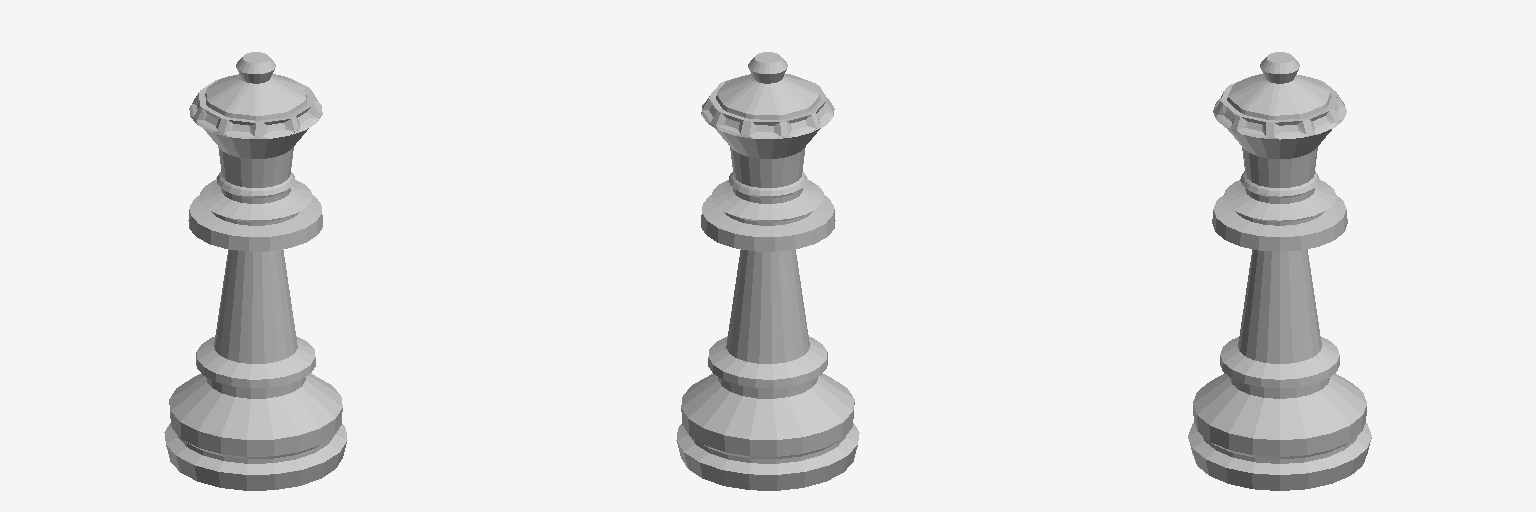
Rendered from whiteQueen.obj.
3 views of the same model, side by side, from view 1: azimuth 30°, elevation 25°; view 2: azimuth 150°, elevation 25°; view 3: azimuth 270°, elevation 25° (orthographic).
Parts seen in each view (by area): view 1: pCylinder10; view 2: pCylinder10; view 3: pCylinder10.
Boxes of the visible parts, box(x1,y1,x2,y2) form: pCylinder10: box(164, 52, 347, 490); pCylinder10: box(676, 52, 859, 490); pCylinder10: box(1188, 52, 1371, 490).
Bounding box in the file's own units: 0.9482 × 2.25 × 0.9482.